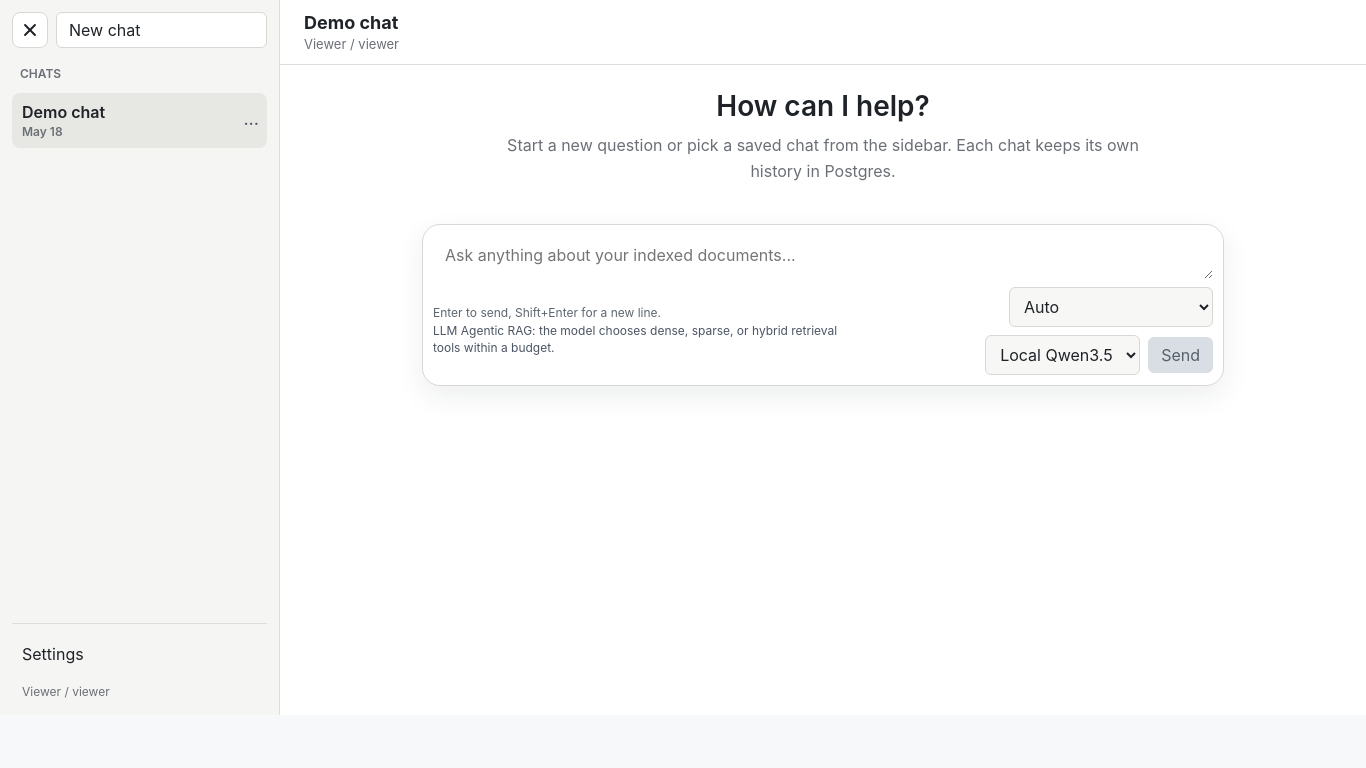
Test: keeps multiple completed ask pairs interleaved by timeline
Type "Question one" into the text box named "message" at point(823, 257), box left=433, top=235, right=1213, bottom=279
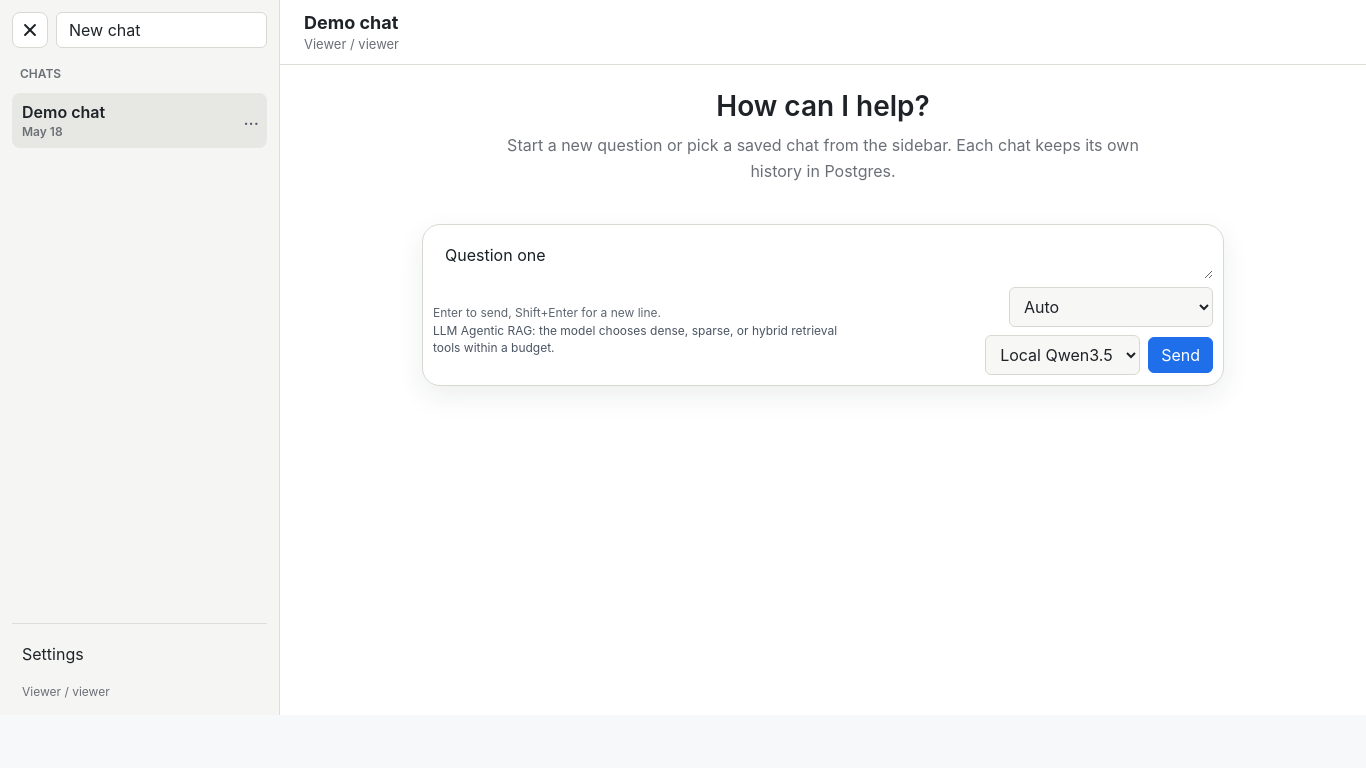
Click the button "Send" at point(1181, 355), box left=1148, top=337, right=1213, bottom=373
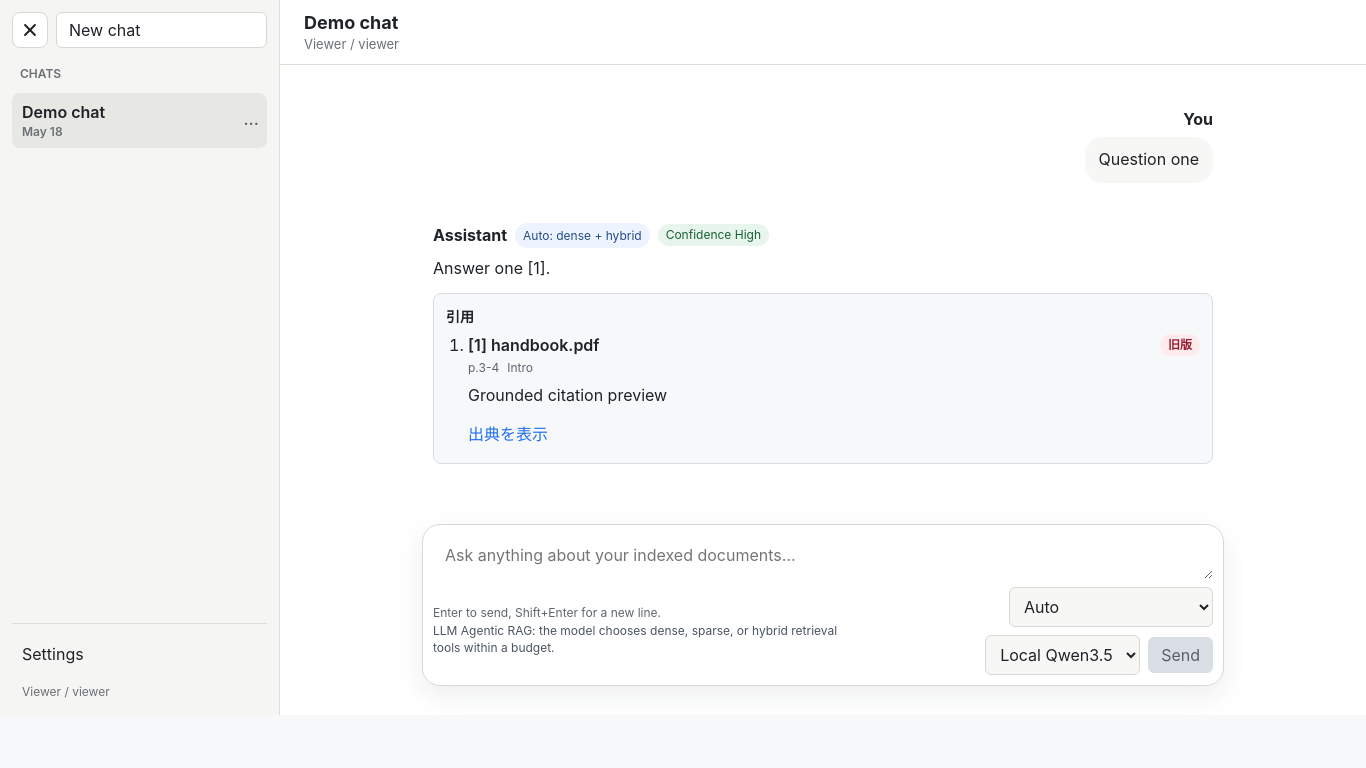
Result: the text "Answer one [1]." is shown at left=433, top=258, right=550, bottom=278
Type "Question two" into the text box named "message" at point(823, 557), box left=433, top=535, right=1213, bottom=579
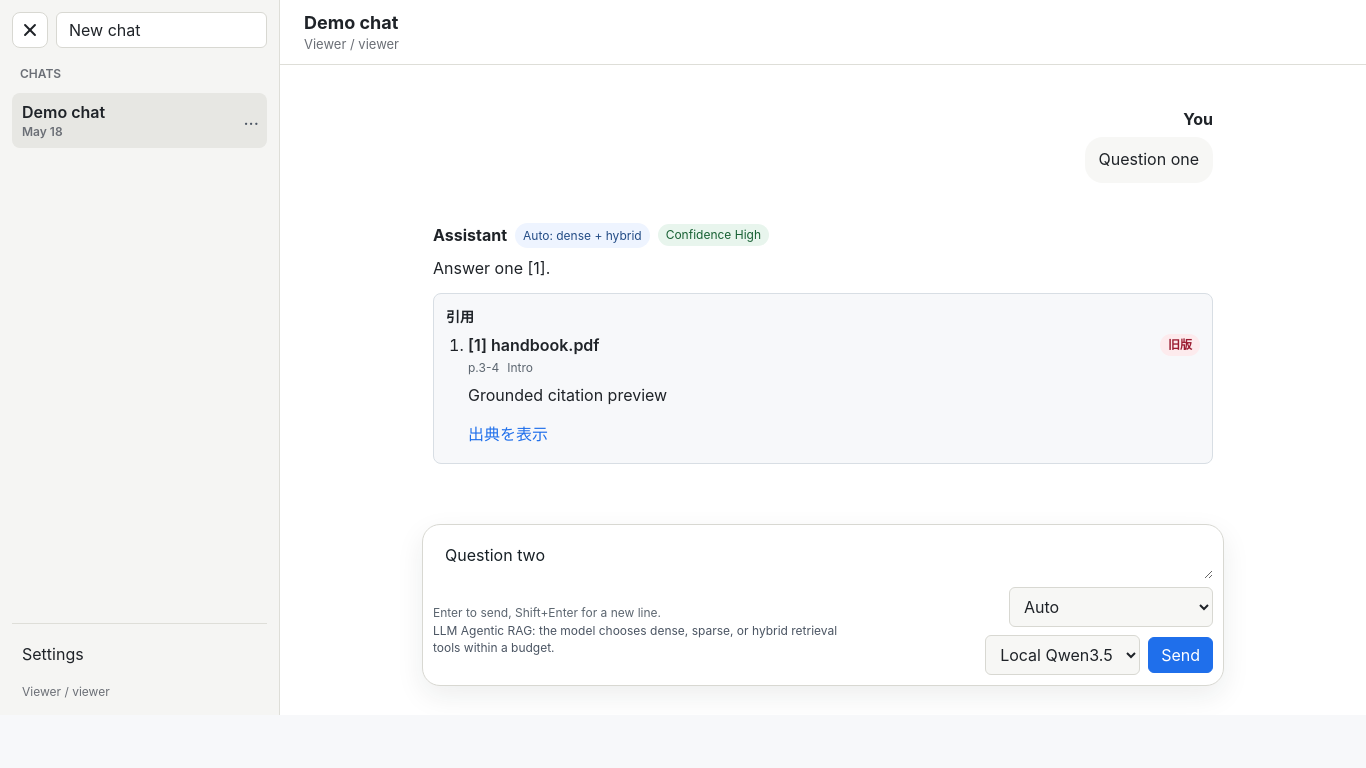
Click the button "Send" at point(1181, 655), box left=1148, top=637, right=1213, bottom=673
(page scrolled)
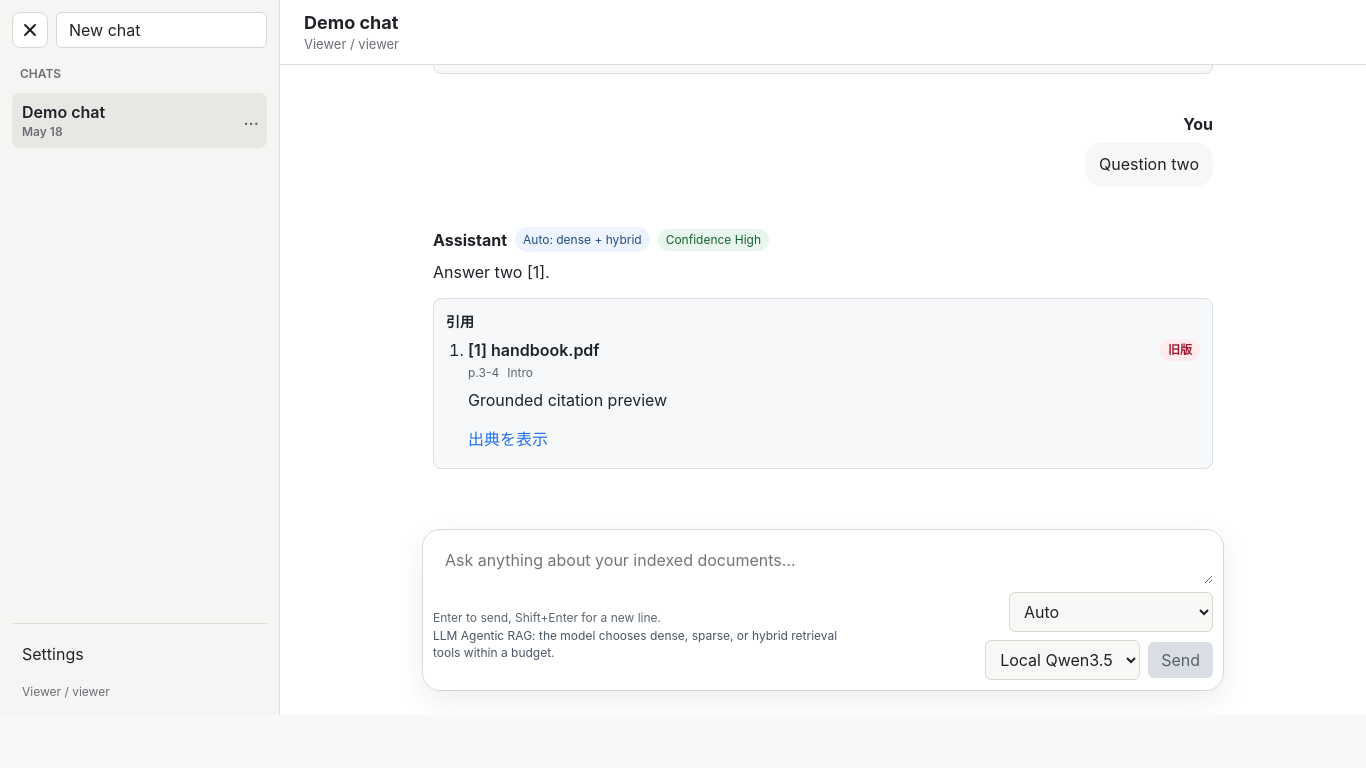
Result: the element with class "message" shows "Question two" at left=1099, top=154, right=1199, bottom=174
Result: the element with class "message" shows "Answer two [1]." at left=433, top=262, right=550, bottom=282
